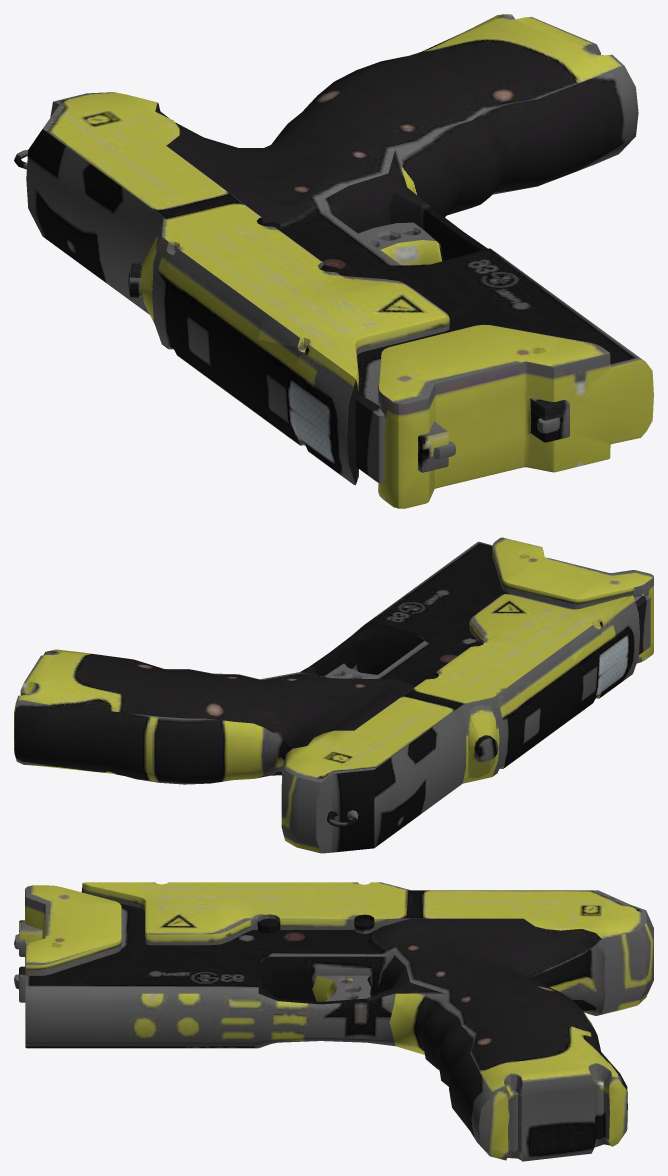
File: Taser.glb
3 views of the same model, one above another, from view 1: azimuth 30°, elevation 25°; view 2: azimuth 150°, elevation 25°; view 3: azimuth 270°, elevation 25° (orthographic). The views are drawn at different scales.
Parts seen in each view (by area): view 1: Taser; view 2: Taser; view 3: Taser.
Part boxes in pixels (x1,y1,x2,y2): Taser: [14, 14, 653, 508]; Taser: [14, 537, 653, 853]; Taser: [14, 882, 653, 1161].
Bounding box in the file's own units: 2.1 × 0.4091 × 2.69.
1 material, 1 textured.
